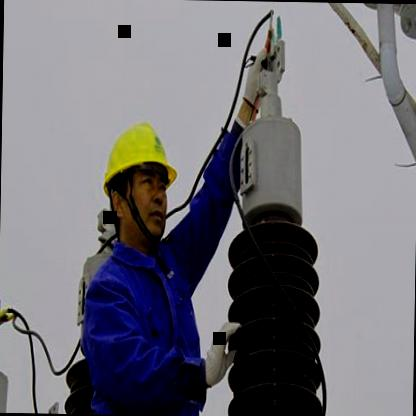helmet: (93, 108, 182, 255)
